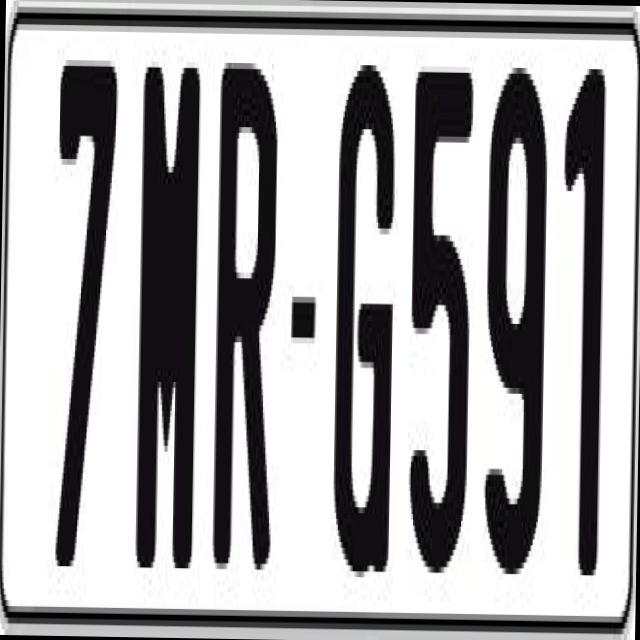1: (557, 68, 613, 604)
5: (404, 66, 476, 584)
7: (52, 59, 125, 561)
9: (478, 67, 552, 598)
G: (330, 47, 400, 560)
M: (132, 49, 203, 556)
R: (212, 44, 280, 586)
